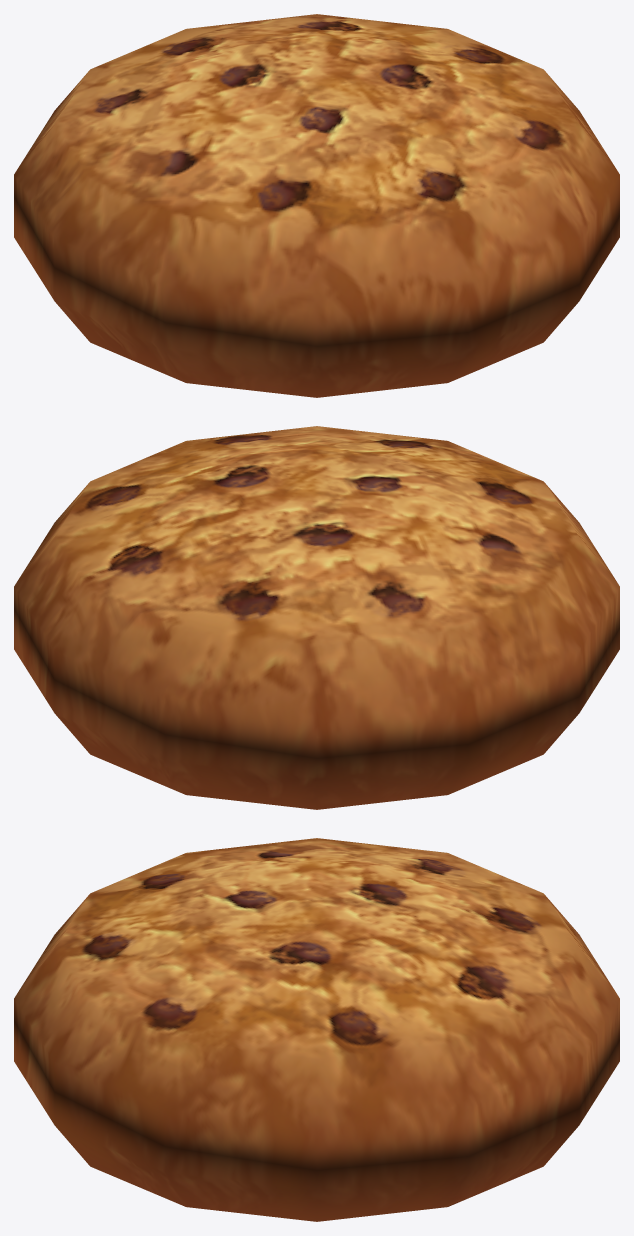
Rendered from 010-Cookies_04.FBX.
3 renders of one model, top to bottom at view 1: azimuth 30°, elevation 25°; view 2: azimuth 150°, elevation 25°; view 3: azimuth 270°, elevation 25°, orthographic.
Parts seen in each view (by area): view 1: 010-Cookies_04; view 2: 010-Cookies_04; view 3: 010-Cookies_04.
Part boxes in pixels (x1,y1,x2,y2): 010-Cookies_04: (14,14,619,397); 010-Cookies_04: (14,426,619,809); 010-Cookies_04: (14,838,619,1221).
Size of the model in its own units: 16.04 by 6.24 by 16.04.
